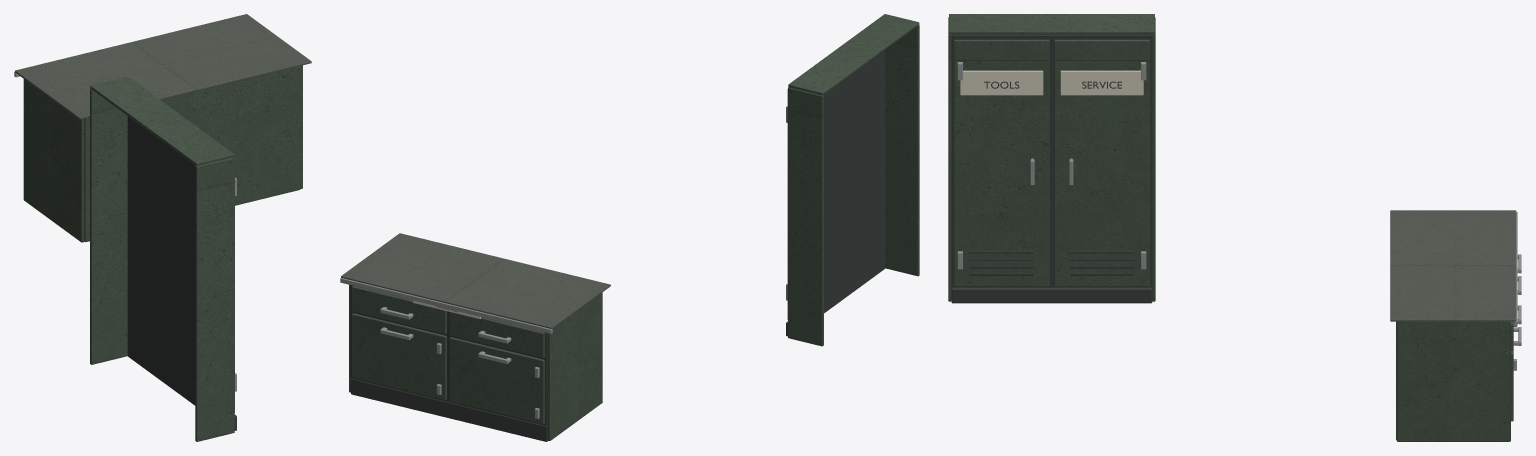
Rendered from equipment_bay_furniture.glb.
3 views of the same model, side by side, from view 1: azimuth 30°, elevation 25°; view 2: azimuth 150°, elevation 25°; view 3: azimuth 270°, elevation 25° (orthographic). The views are drawn at different scales.
Visible parts, largest first — view 1: equipment_bay_furniture / transfer_green_enamel, equipment_bay_furniture / transfer_dark_steel, equipment_bay_furniture / bay_worktop_laminate; view 2: equipment_bay_furniture / transfer_green_enamel, equipment_bay_furniture / transfer_dark_steel, equipment_bay_furniture / bay_worktop_laminate, equipment_bay_furniture / transfer_galvanized; view 3: equipment_bay_furniture / transfer_green_enamel, equipment_bay_furniture / bay_worktop_laminate, equipment_bay_furniture / transfer_dark_steel, equipment_bay_furniture / transfer_instrument_ivory, equipment_bay_furniture / transfer_galvanized.
Boxes of the visible parts, x1,y1,x2,y2 form: equipment_bay_furniture / transfer_green_enamel: [23, 65, 302, 441]; equipment_bay_furniture / transfer_dark_steel: [127, 116, 236, 430]; equipment_bay_furniture / bay_worktop_laminate: [15, 14, 311, 119]; equipment_bay_furniture / transfer_green_enamel: [349, 14, 919, 440]; equipment_bay_furniture / transfer_dark_steel: [351, 50, 885, 441]; equipment_bay_furniture / bay_worktop_laminate: [341, 233, 610, 328]; equipment_bay_furniture / transfer_galvanized: [340, 106, 787, 418]; equipment_bay_furniture / transfer_green_enamel: [948, 14, 1513, 441]; equipment_bay_furniture / bay_worktop_laminate: [1390, 210, 1516, 321]; equipment_bay_furniture / transfer_dark_steel: [951, 34, 1510, 441]; equipment_bay_furniture / transfer_instrument_ivory: [960, 70, 1143, 95]; equipment_bay_furniture / transfer_galvanized: [957, 62, 1521, 370].
Bounding box in the file's own units: 2.87 × 2.23 × 4.29.
5 materials, 2 textured.
